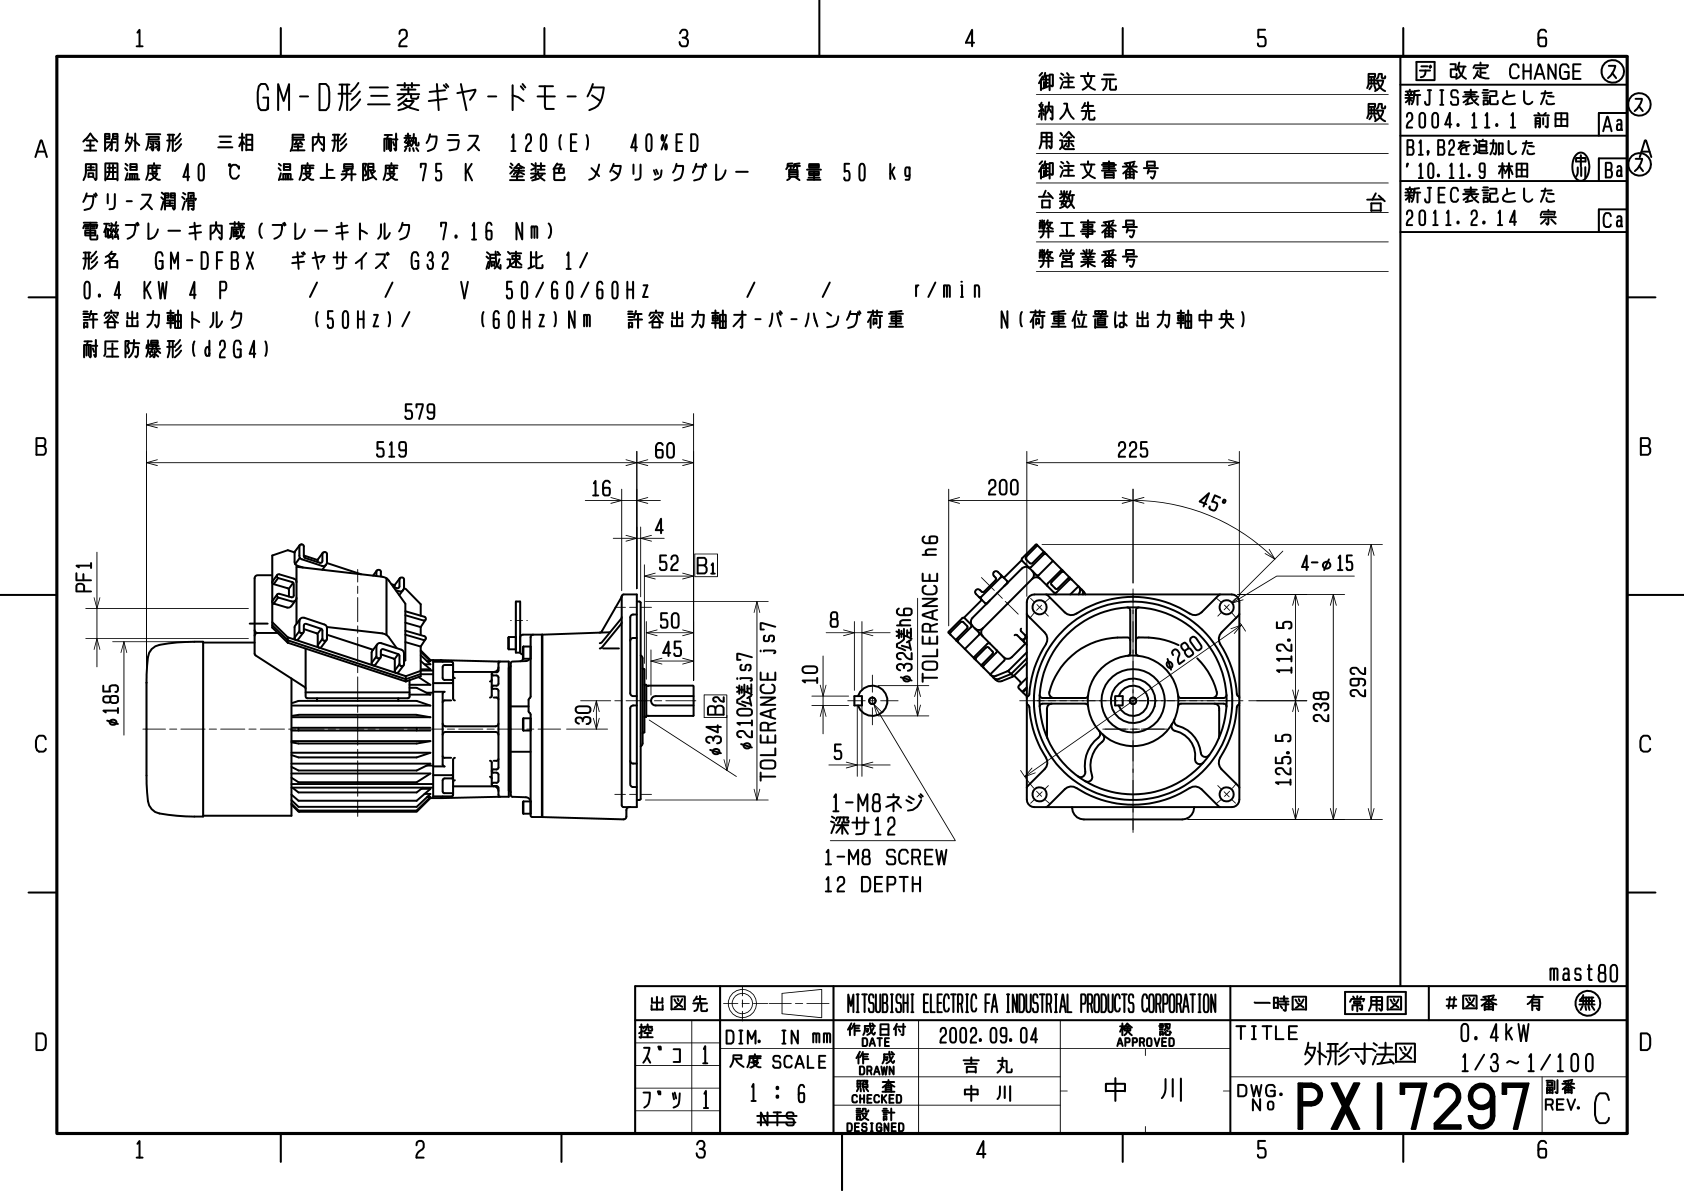GM_SP_屋内＿三相_フランジ: (70, 385, 1389, 913)
